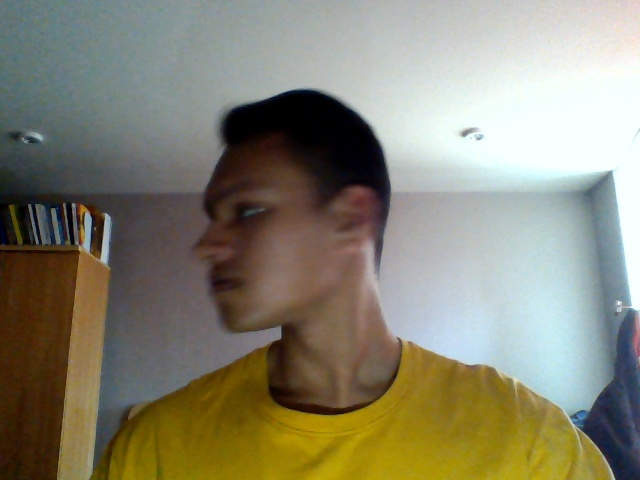no_mask: (186, 223, 329, 330)
